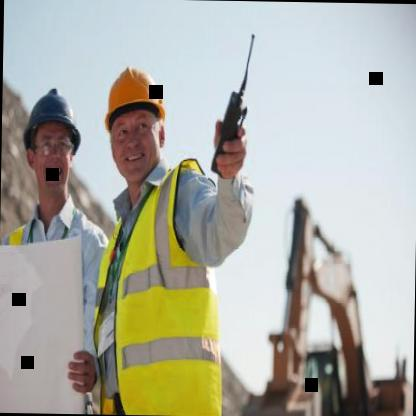helmet: (96, 50, 175, 196), (14, 68, 86, 215)
